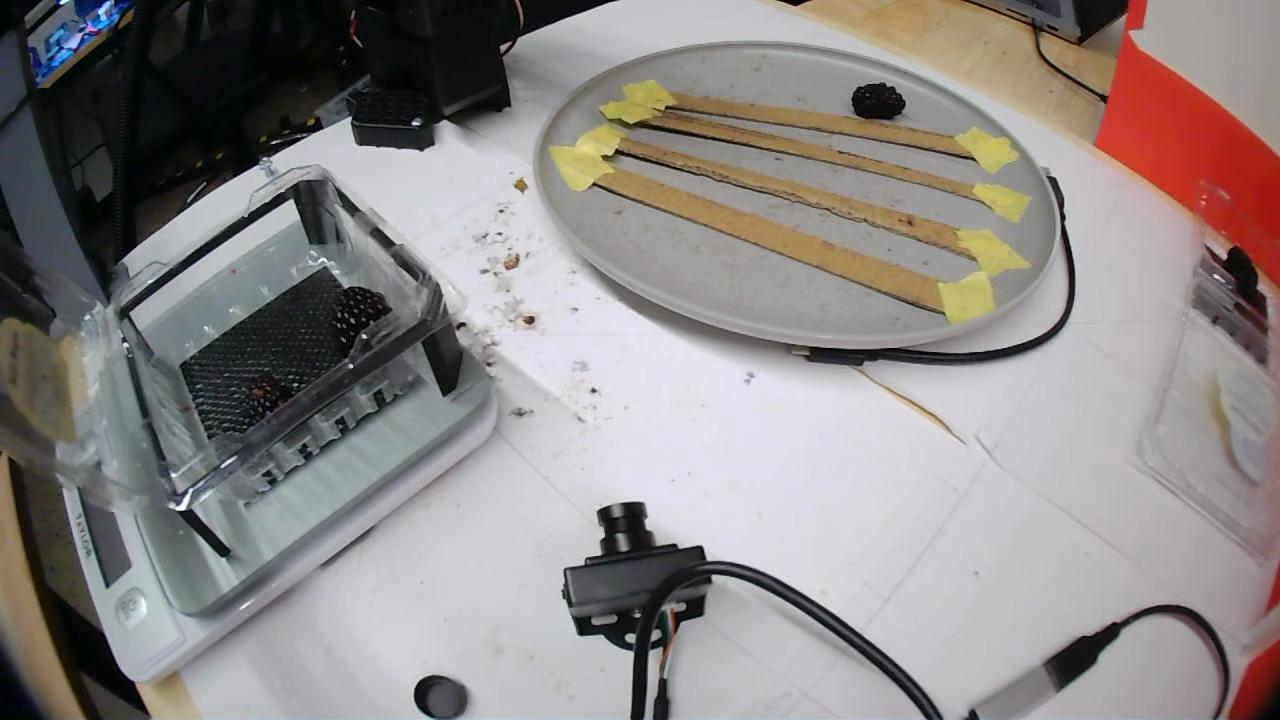berry: (332, 286, 392, 356), (1223, 245, 1261, 303), (851, 82, 905, 119), (245, 373, 290, 415)
